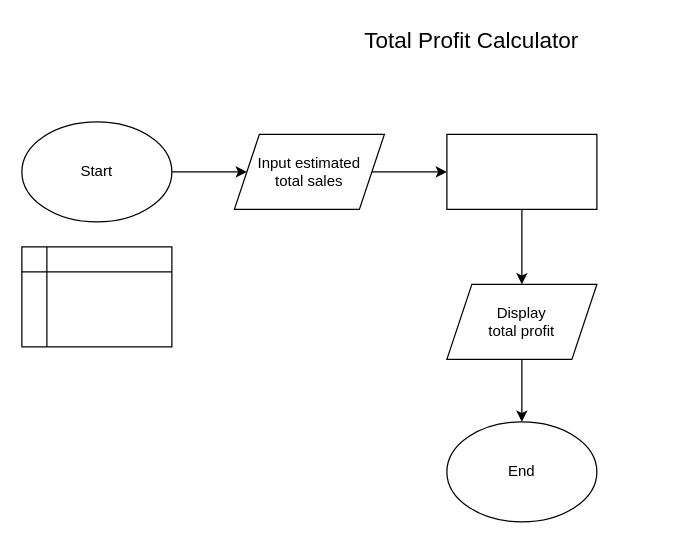
Image size: 694x544. Some labels were removed from this diagram. The box of each missing label's shape, as (x1, y1, x2, y2) in pixels:
Average profit = 23%: (21, 246, 172, 347)
Multiply estimated total sales by average profit: (446, 133, 597, 209)
